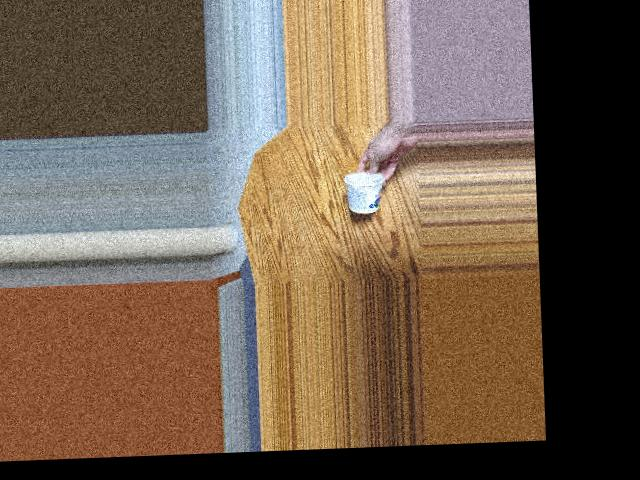cotage: (339, 170, 386, 209)
